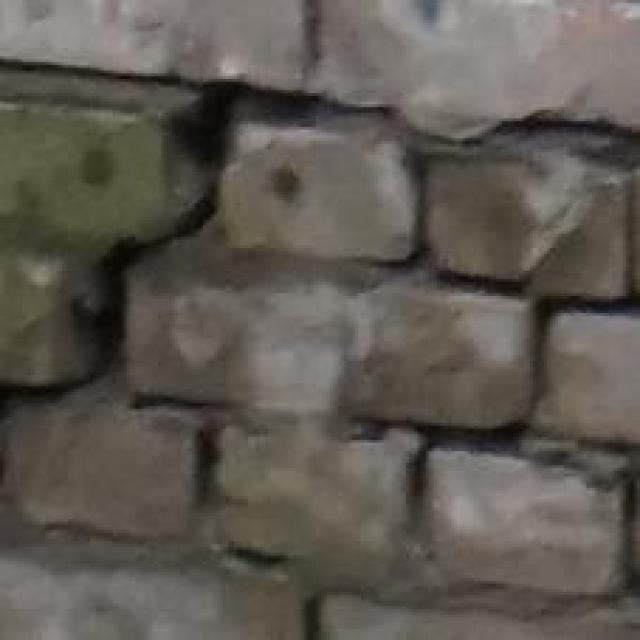Crack: (0, 37, 569, 640)
